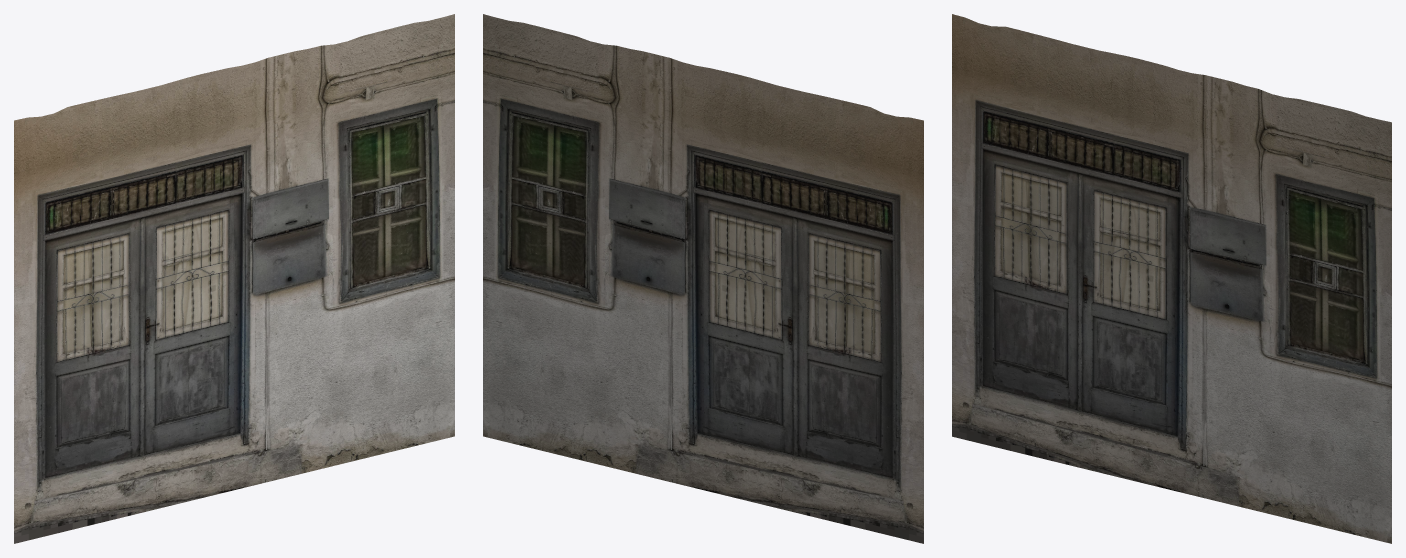
Rendered from door_wall.glb.
The picture shows the model from 3 angles, left to right: view 1: azimuth 30°, elevation 25°; view 2: azimuth 150°, elevation 25°; view 3: azimuth 330°, elevation 25°; orthographic projection.
Visible parts, largest first — view 1: door_wall; view 2: door_wall; view 3: door_wall.
Boxes of the visible parts, left/top/right/bottom form: door_wall: left=14, top=14, right=454, bottom=543; door_wall: left=483, top=14, right=923, bottom=543; door_wall: left=952, top=14, right=1391, bottom=543.
Bounding box in the file's own units: 3.82 × 3.51 × 0.
1 material, 1 textured.
